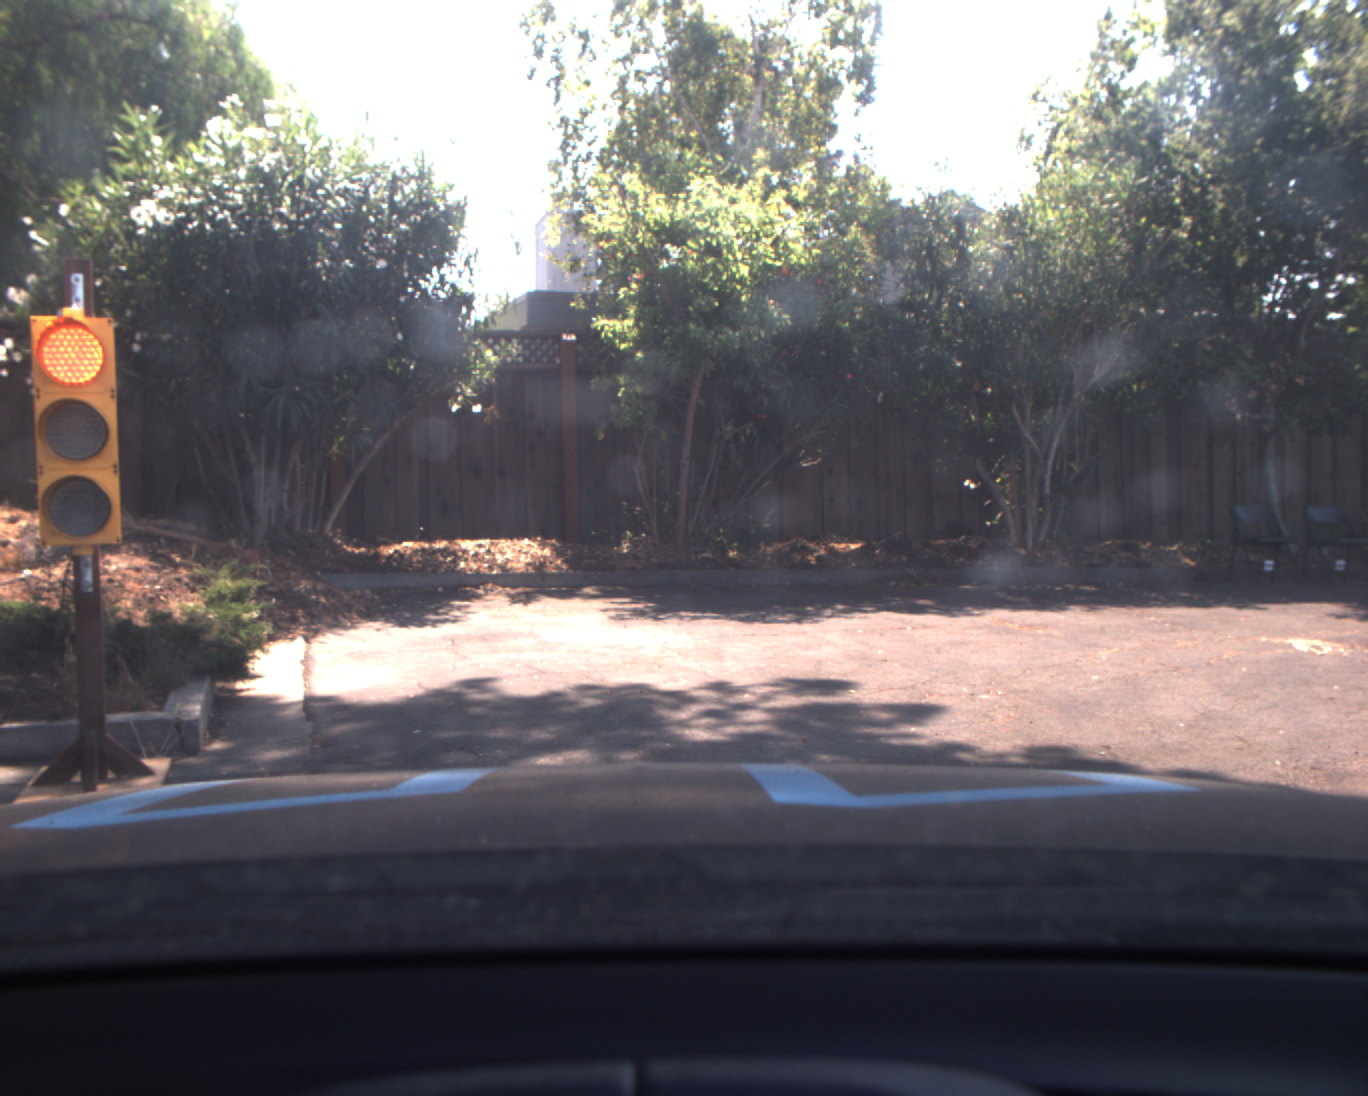red: (26, 308, 126, 550)
